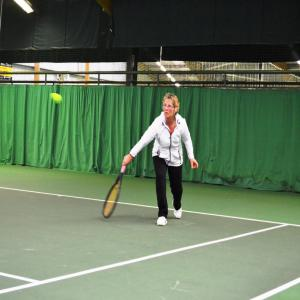TennisBall: (50, 95, 64, 105)
